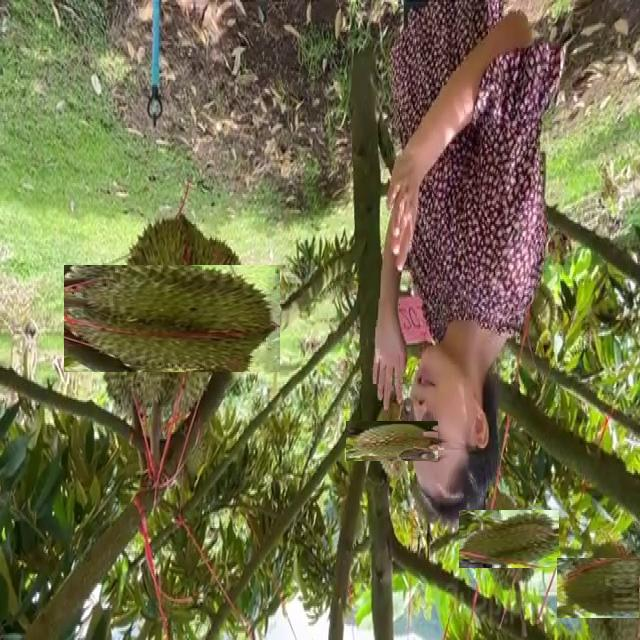durian: (91, 238, 253, 400), (469, 499, 549, 578), (567, 547, 640, 629), (359, 408, 426, 474)
